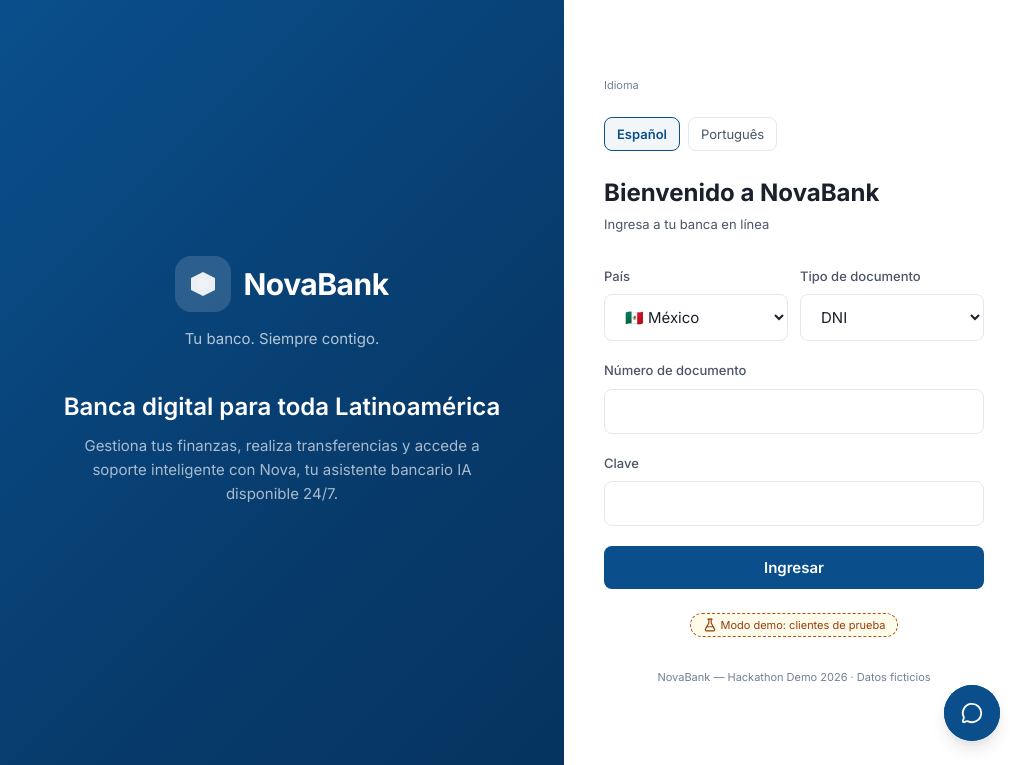
Demo panel › is closed until asked, then lists scenarios and fills the form
This screenshot has width=1024, height=765.
Expected: the text "queja abierta" is not shown
Step 1. Click the button "Modo demo: clientes de prueba" → (794, 625), box [690,613,898,637]
(page scrolled)
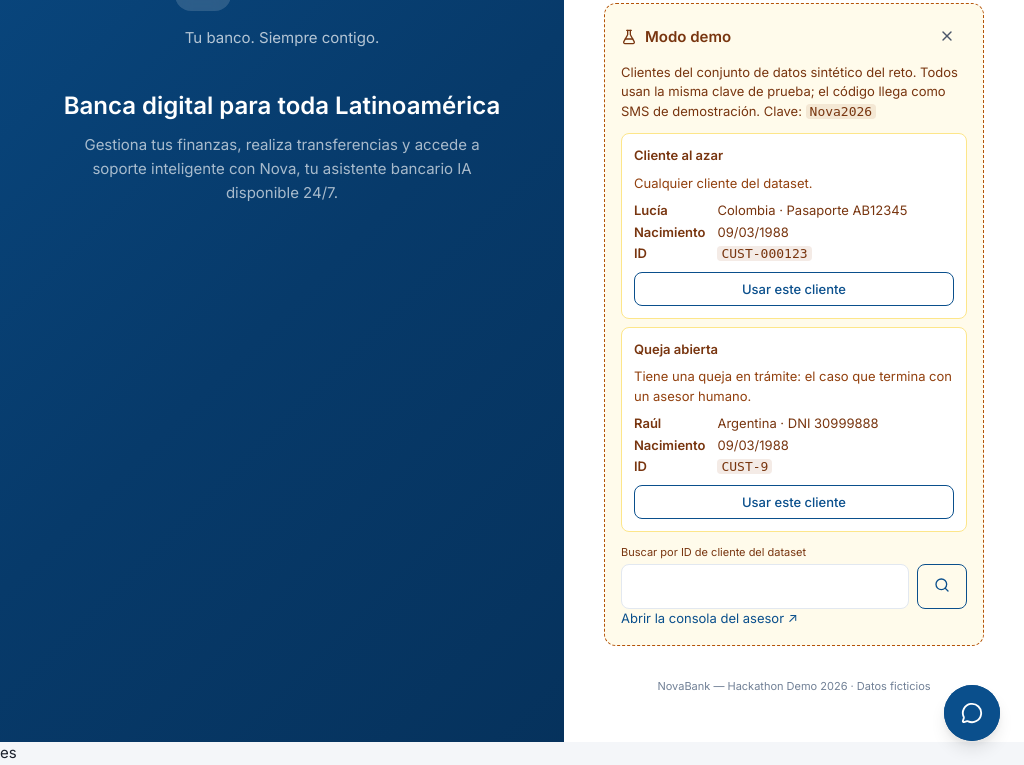
Result: the text "Queja abierta" is shown at [634,340,718,356]
Result: the text "Nova2026" is shown at [806,104,876,118]
Step 2. Click the button "Usar este cliente" below "Queja abierta" → (794, 502), box [634,484,954,518]
(page scrolled)
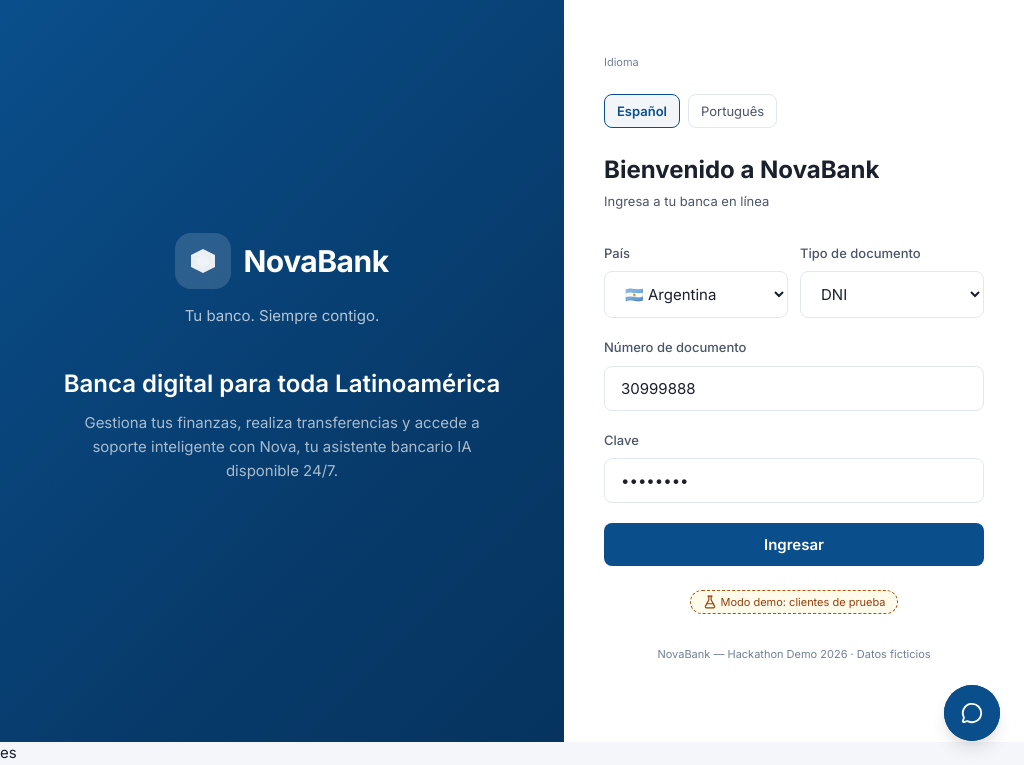
Result: the dropdown labelled "País" shows "🇦🇷 Argentina" at [604,271,788,318]
Result: the field labelled "Número de documento" holds "30999888" at [604,366,984,410]
Result: the password field labelled "Clave" holds "Nova2026" at [604,458,984,503]
